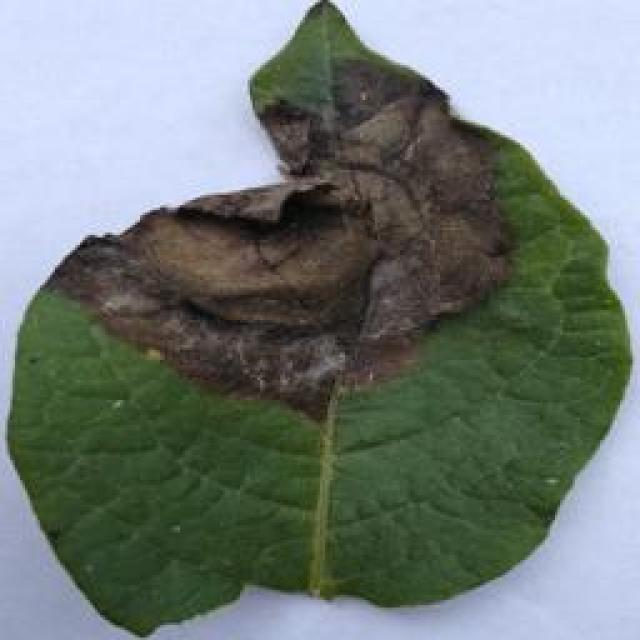Potato_Late_Blight: (3, 13, 635, 639)
